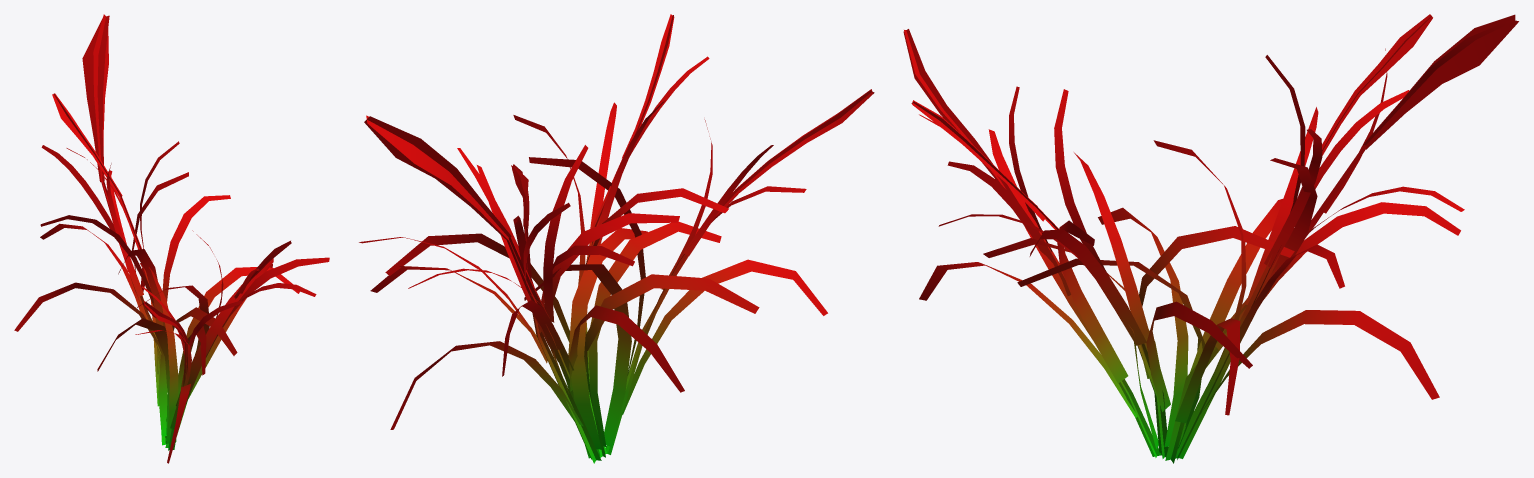
File: Great Brome_LOD3_Var1_tjugaikia.fbx
The picture shows the model from 3 angles, left to right: view 1: azimuth 30°, elevation 25°; view 2: azimuth 150°, elevation 25°; view 3: azimuth 270°, elevation 25°; orthographic projection. The views are drawn at different scales.
Visible parts, largest first — view 1: _bb08_Var1_LOD3; view 2: _bb08_Var1_LOD3; view 3: _bb08_Var1_LOD3.
Boxes of the visible parts, x1,y1,x2,y2 form: _bb08_Var1_LOD3: (14,14,329,463); _bb08_Var1_LOD3: (359,14,874,463); _bb08_Var1_LOD3: (903,14,1518,463).
Size of the model in its own units: 68.38 by 80.8 by 93.31.
